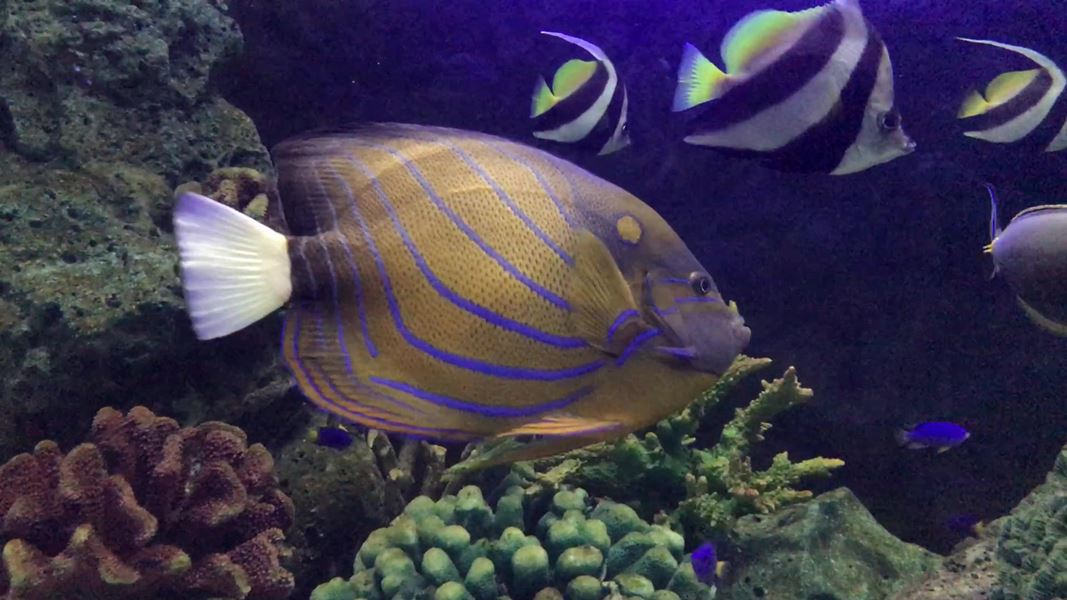Blue ring angelfish: (157, 110, 780, 479)
